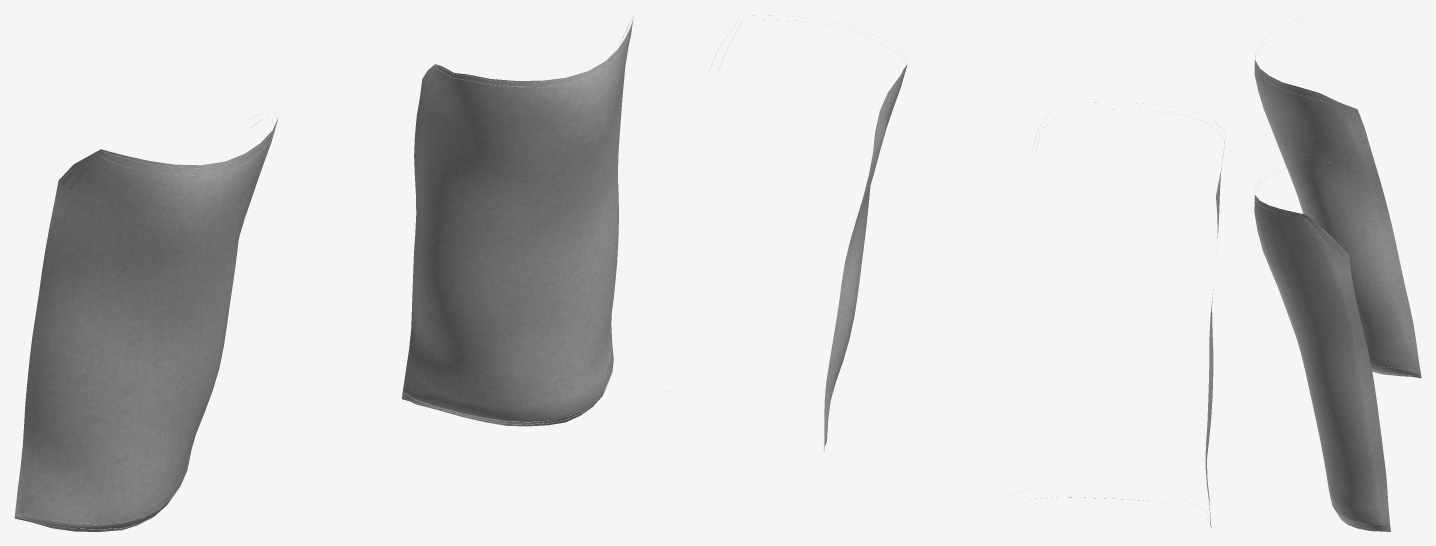
Rendered from Knee.glb.
3 renders of one model, left to right at view 1: azimuth 30°, elevation 25°; view 2: azimuth 150°, elevation 25°; view 3: azimuth 270°, elevation 25°, orthographic. The views are drawn at different scales.
Parts seen in each view (by area): view 1: Knee1, Rope1; view 2: Knee1; view 3: Knee1, Rope1.
Part boxes in pixels (bbox=[...]): Knee1: bbox=[15, 21, 632, 531]; Rope1: bbox=[14, 16, 633, 530]; Knee1: bbox=[824, 64, 1222, 527]; Knee1: bbox=[1254, 60, 1421, 531]; Rope1: bbox=[1254, 19, 1421, 531].
Bounding box in the file's own units: 0.821 × 0.5351 × 0.2553.
2 materials, 2 textured.
